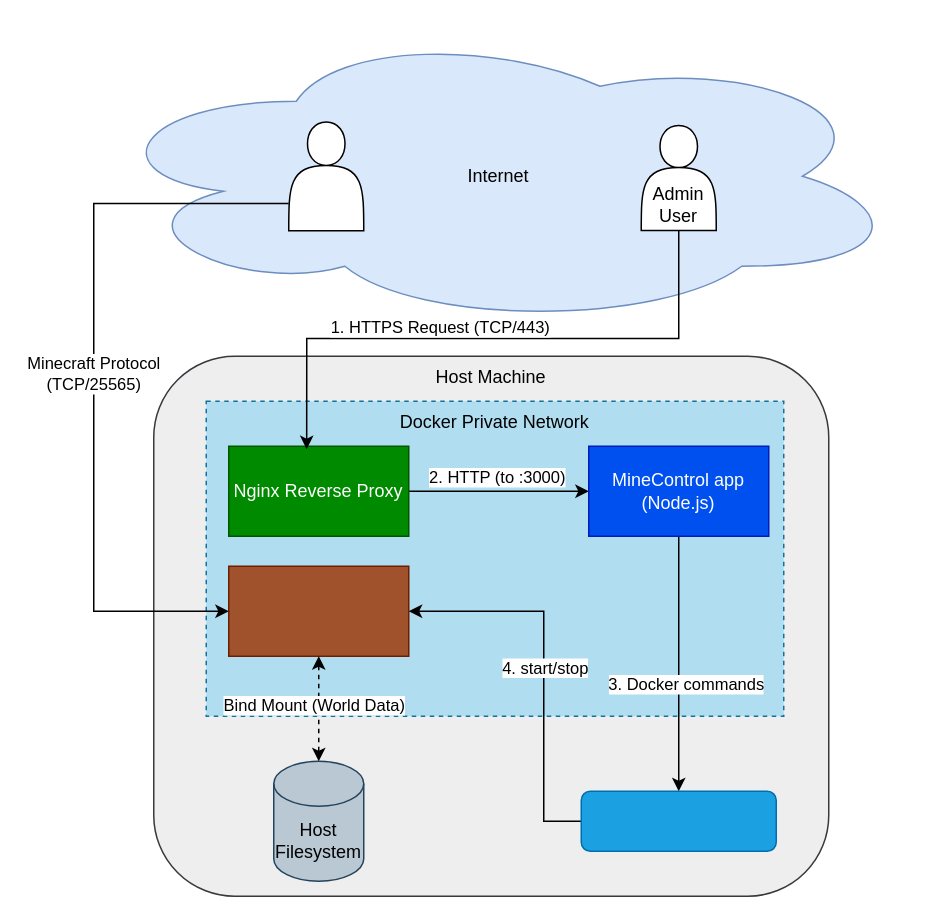
Some shapes in this 930 by 923 pixel diagram are drawn without their labels. Here are the shapes that lost their labels. From the top down, the centre of each, then its label:
At pixel 325 175: "Minecraft Player".
At pixel 318 610: "Minecraft Server".
At pixel 678 820: "/var/run/docker.sock".
